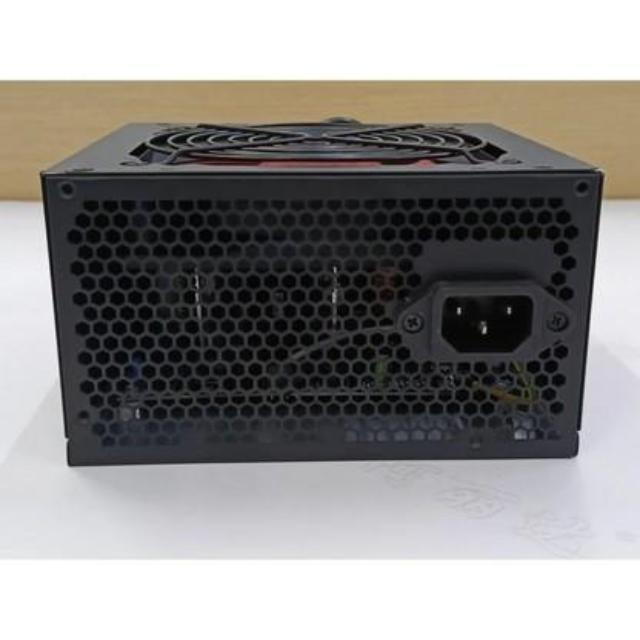PSU: (32, 90, 608, 484)
